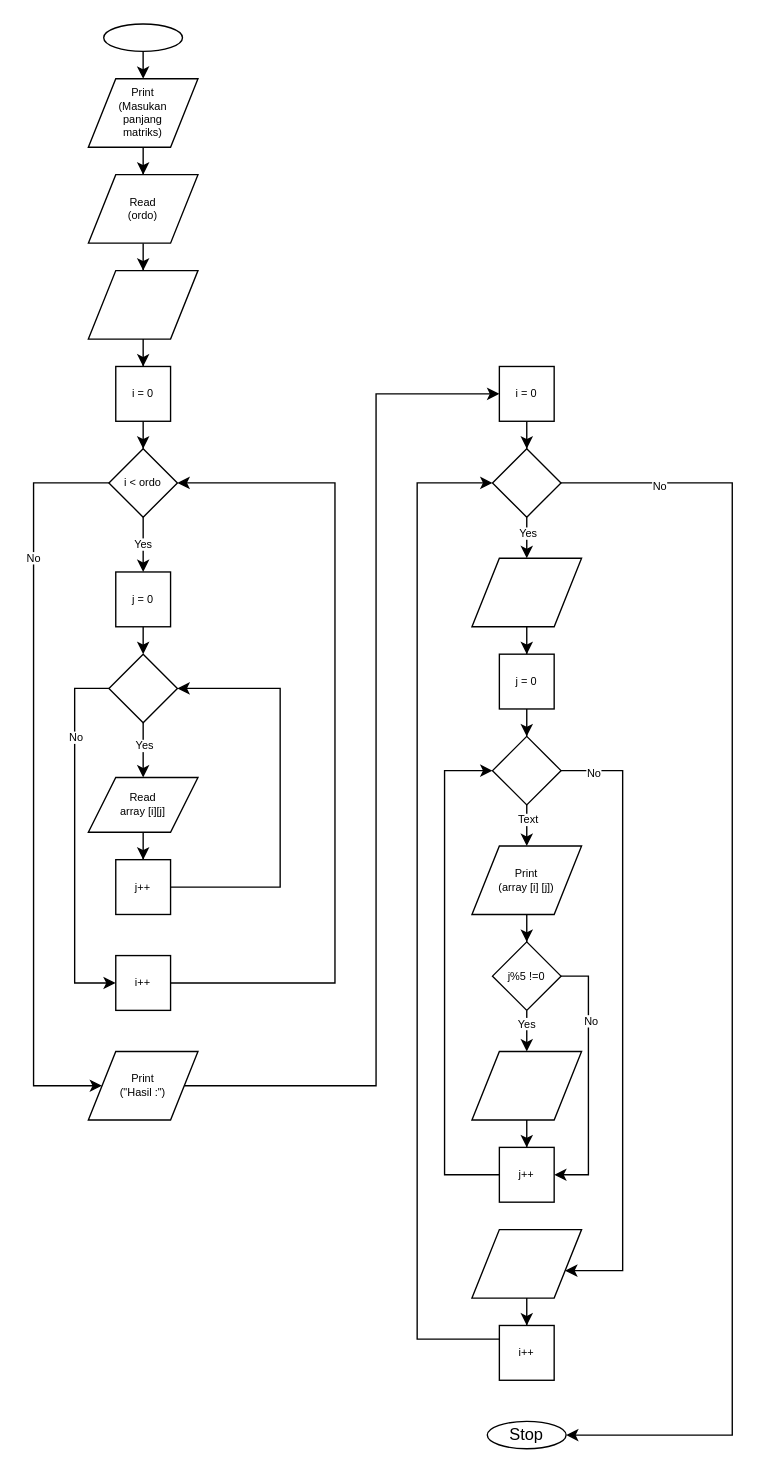
This 767x1473 diagram has some shape labels left out. Each missing label, with the box of its shape:
i < ordo-1: (491, 447, 561, 517)
j < ordo: (108, 653, 177, 723)
j < ordo-1: (491, 735, 561, 805)
Print (", "): (471, 1050, 582, 1120)
Print ("["): (471, 557, 582, 627)
Print ("]\n"): (471, 1228, 582, 1298)
Print (Masukan Elemen Matriks): (87, 269, 198, 339)
Start: (102, 23, 182, 51)
